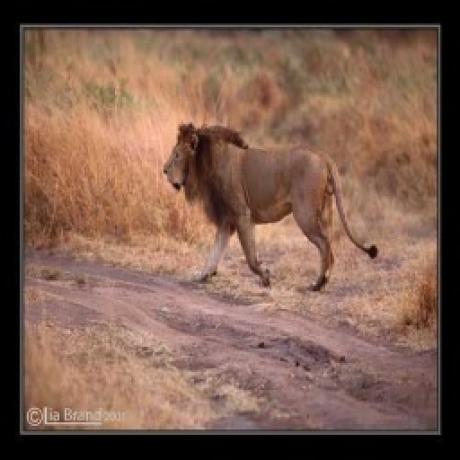Lion: (160, 120, 381, 291)
